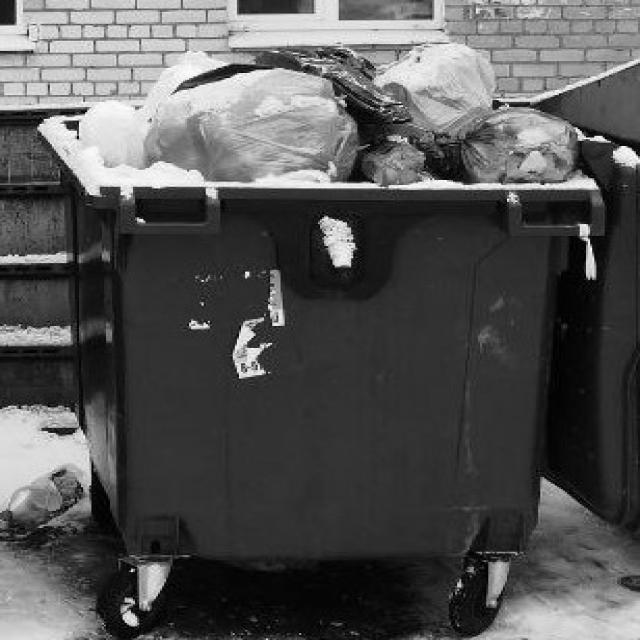Trashcan: (24, 17, 610, 630)
